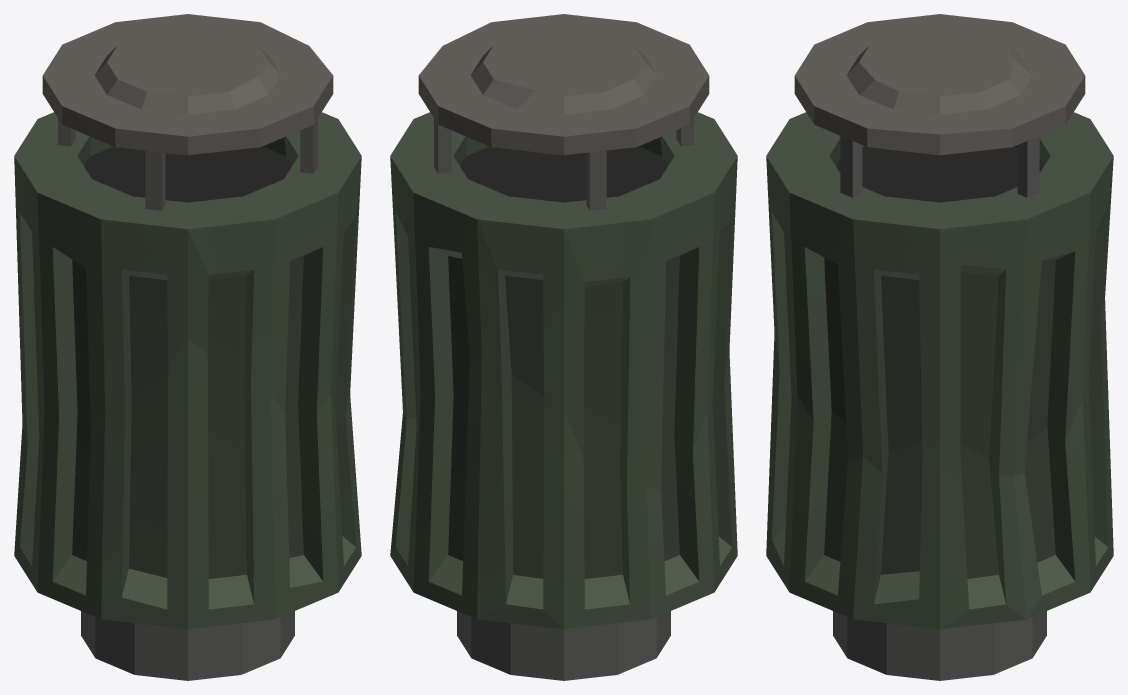
Rendered from SM_Prop_Trashbin_01.obj.
3 renders of one model, left to right at view 1: azimuth 30°, elevation 25°; view 2: azimuth 150°, elevation 25°; view 3: azimuth 270°, elevation 25°, orthographic.
Parts seen in each view (by area): view 1: SM_Prop_Trashbin_01_0; view 2: SM_Prop_Trashbin_01_0; view 3: SM_Prop_Trashbin_01_0.
Boxes of the visible parts, box(x1,y1,x2,y2) form: SM_Prop_Trashbin_01_0: box(14, 14, 361, 680); SM_Prop_Trashbin_01_0: box(390, 14, 737, 680); SM_Prop_Trashbin_01_0: box(766, 14, 1113, 680).
Bounding box in the file's own units: 0.647 × 1.18 × 0.647.
Materials: 1 (1 with a texture image).
